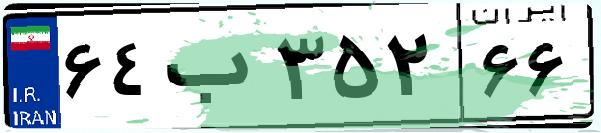2: (385, 28, 445, 110)
3: (270, 28, 330, 110)
4: (110, 28, 158, 98)
5: (330, 28, 385, 110)
6: (57, 26, 110, 100), (475, 38, 525, 113), (525, 38, 570, 115)
ب: (158, 20, 270, 120)
